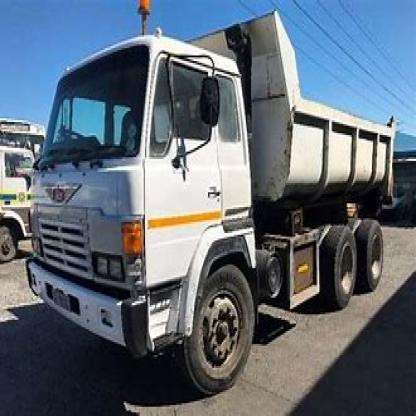dump_truck: (20, 13, 400, 390)
